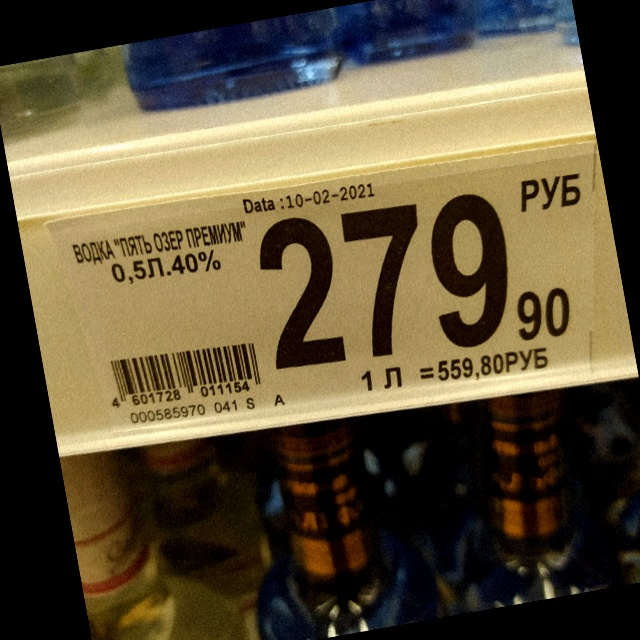barcode: (106, 342, 261, 412)
name: (71, 218, 249, 287)
price: (258, 193, 575, 371)
price_tag: (68, 139, 596, 430)
